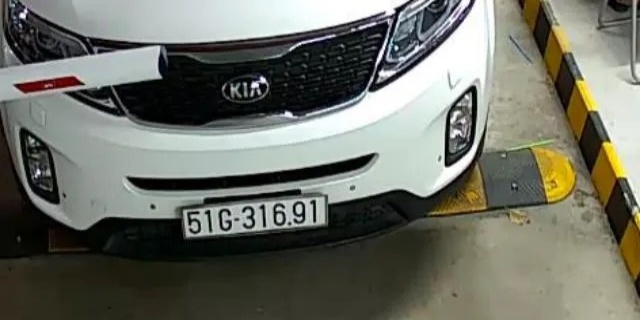bien_so: (185, 197, 326, 235)
